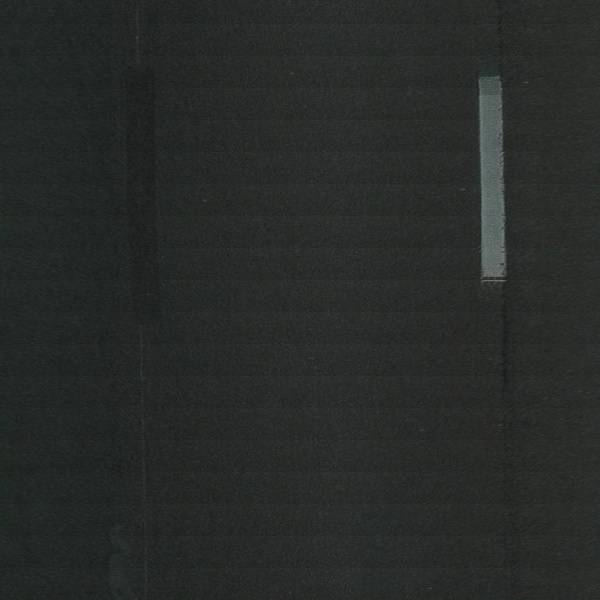road_damage: (496, 296, 526, 522), (100, 515, 144, 600)
